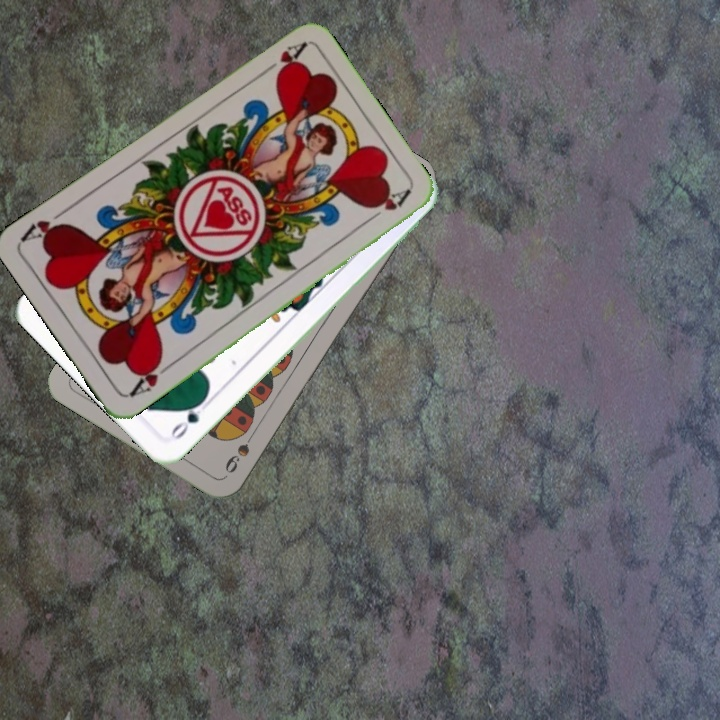GO: (165, 394, 213, 442)
HA: (124, 354, 176, 400), (256, 38, 309, 81)
S9: (220, 424, 260, 477)
